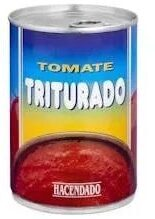Tomate triturado: (8, 11, 147, 208)
